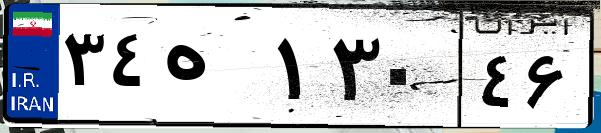0: (385, 28, 445, 110)
1: (270, 28, 330, 110)
3: (330, 28, 385, 110), (57, 26, 110, 100)
4: (475, 38, 525, 113), (110, 28, 158, 98)
6: (525, 38, 570, 115)
ه: (158, 20, 270, 120)
